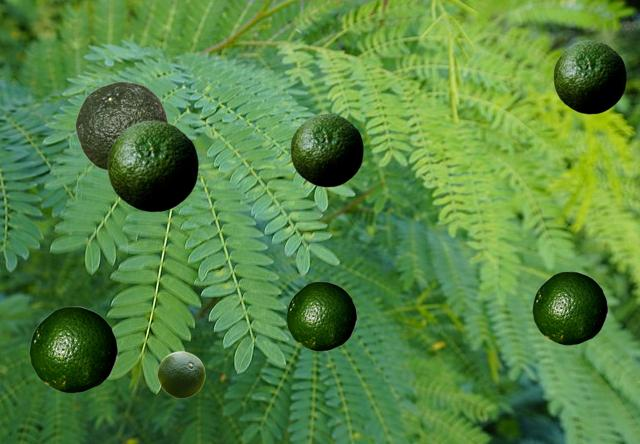calamansi: (107, 120, 197, 211), (75, 81, 167, 170), (29, 306, 117, 392), (532, 271, 607, 344), (553, 40, 625, 113), (290, 113, 362, 186), (286, 281, 356, 350), (157, 351, 204, 397)
